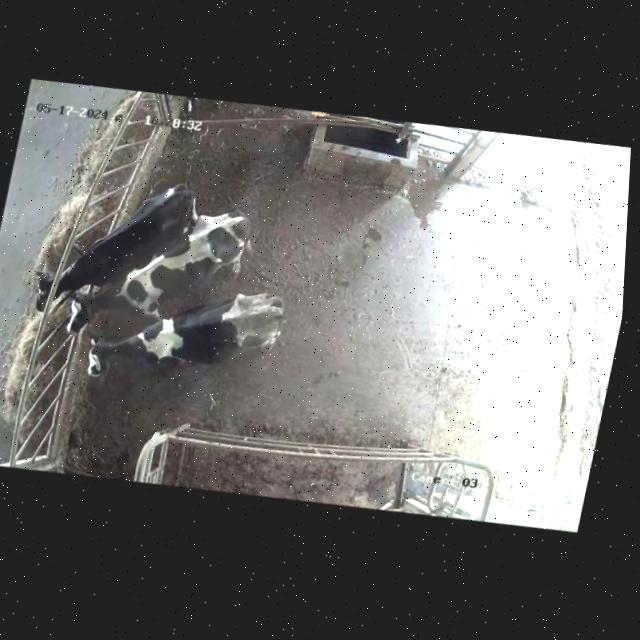drink: (9, 230, 101, 318)
stand: (54, 262, 343, 430), (58, 182, 284, 368)
